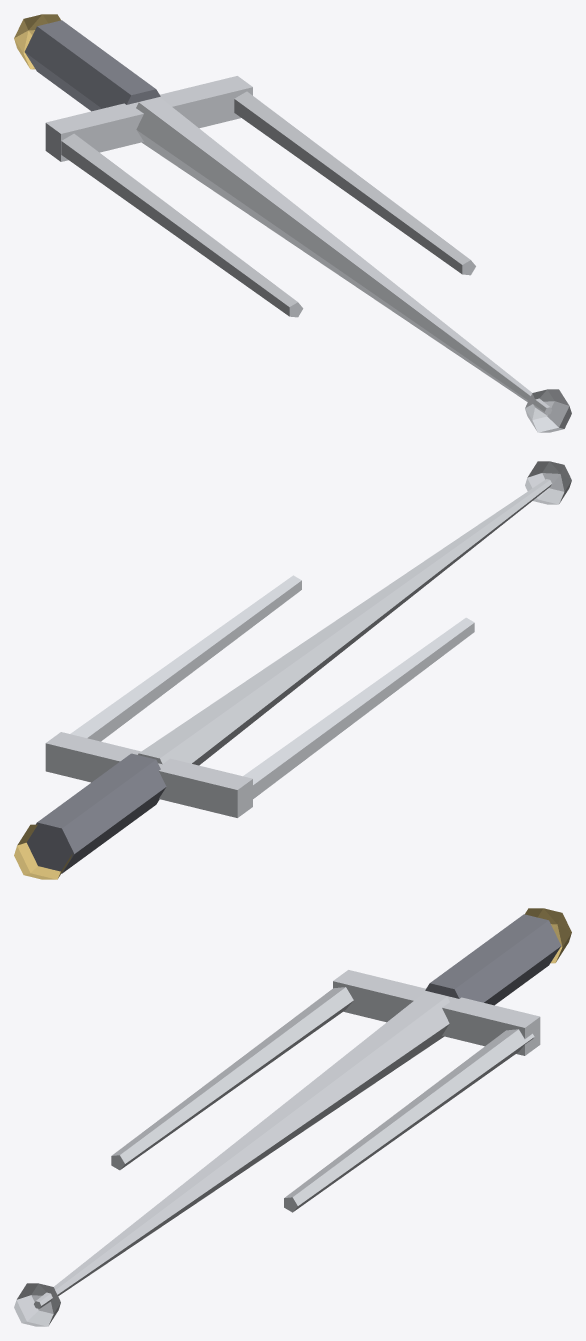
Rendered from legendary-warriors-kit-warrior-sai-ad50b23f__39205.glb.
3 renders of one model, top to bottom at view 1: azimuth 30°, elevation 25°; view 2: azimuth 150°, elevation 25°; view 3: azimuth 330°, elevation 25°, orthographic.
Visible parts, largest first — view 1: warrior-sai; view 2: warrior-sai; view 3: warrior-sai.
Boxes of the visible parts, x1=… form: warrior-sai: x1=14, y1=14, x2=571, y2=432; warrior-sai: x1=14, y1=461, x2=571, y2=879; warrior-sai: x1=14, y1=908, x2=571, y2=1326.
Size of the model in its own units: 0.101 by 0.0243 by 0.48.
